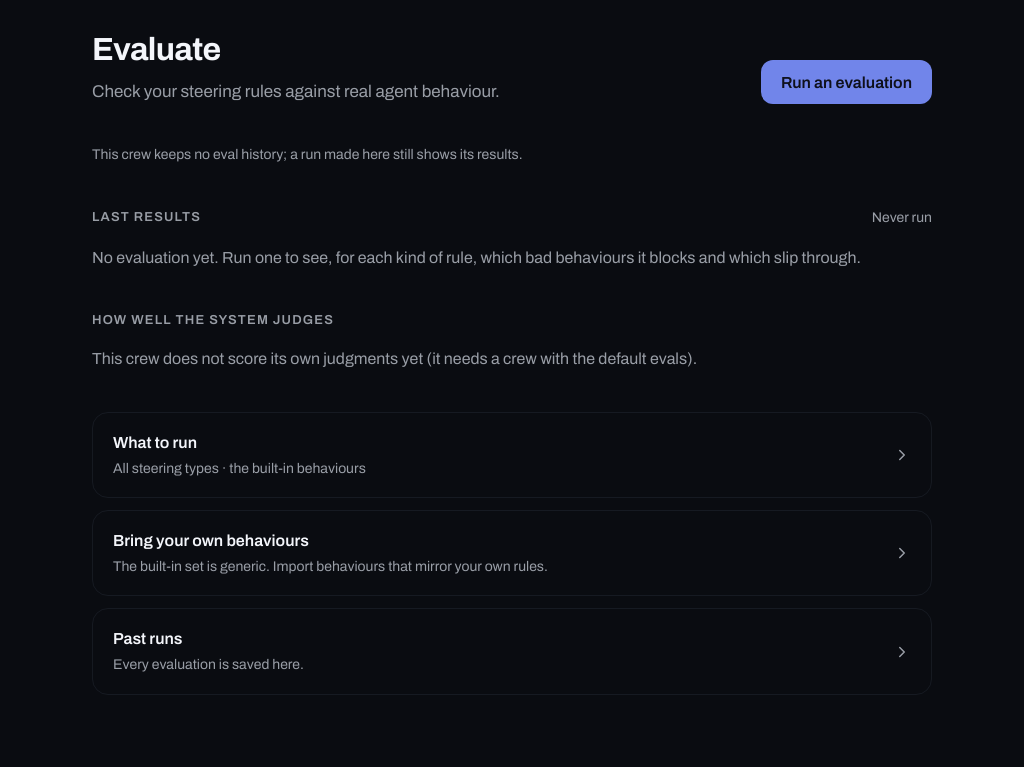
Scenario: Evals — the run › a named 4xx surfaces as the translated error, not the unsupported callout
Click the button with test id "testing-evals-run" at x=846, y=82, box [761,60,932,104]
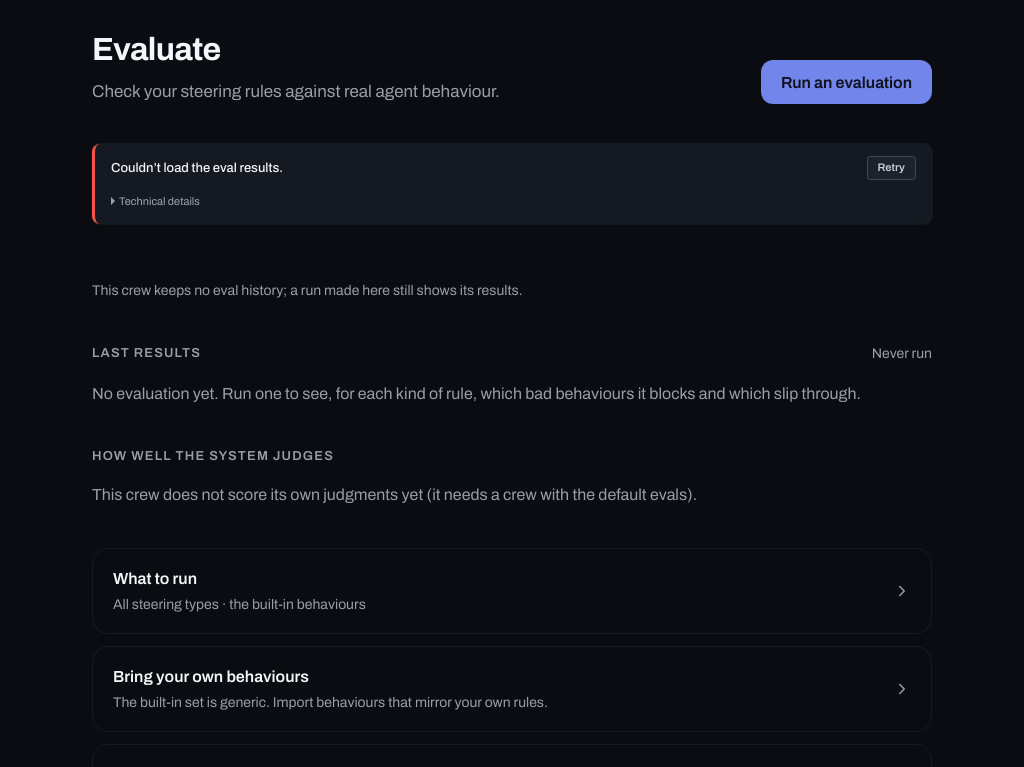
Check: the element with test id "testing-evals-error" shows "Couldn’t load the eval results.", box [111,160,283,174]
